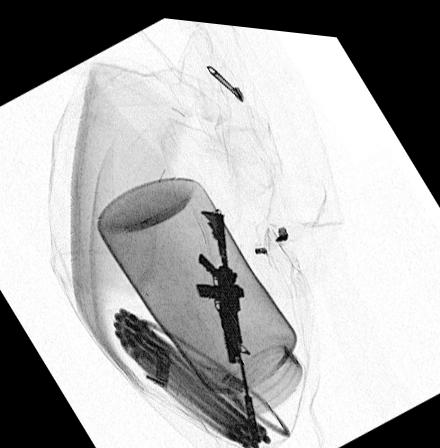Gun: (195, 203, 259, 435)
